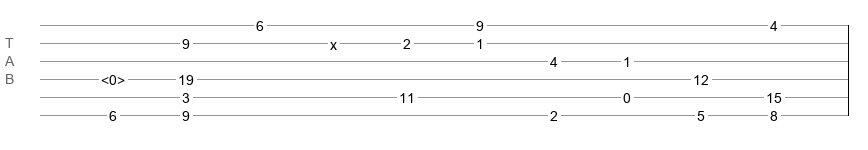0: (623, 90, 631, 100)
1: (476, 36, 484, 46), (623, 54, 631, 64)
11: (399, 90, 415, 100)
12: (693, 72, 709, 82)
15: (766, 90, 782, 100)
19: (178, 72, 194, 82)
2: (403, 36, 411, 46), (550, 108, 558, 118)
3: (182, 90, 190, 100)
4: (550, 54, 558, 64), (770, 18, 778, 28)
5: (697, 108, 705, 118)
6: (109, 108, 117, 118), (256, 18, 264, 28)
8: (770, 108, 778, 118)
9: (182, 108, 190, 118), (182, 36, 190, 46), (476, 18, 484, 28)
harmonic: (101, 72, 125, 82)
x: (330, 37, 337, 45)
